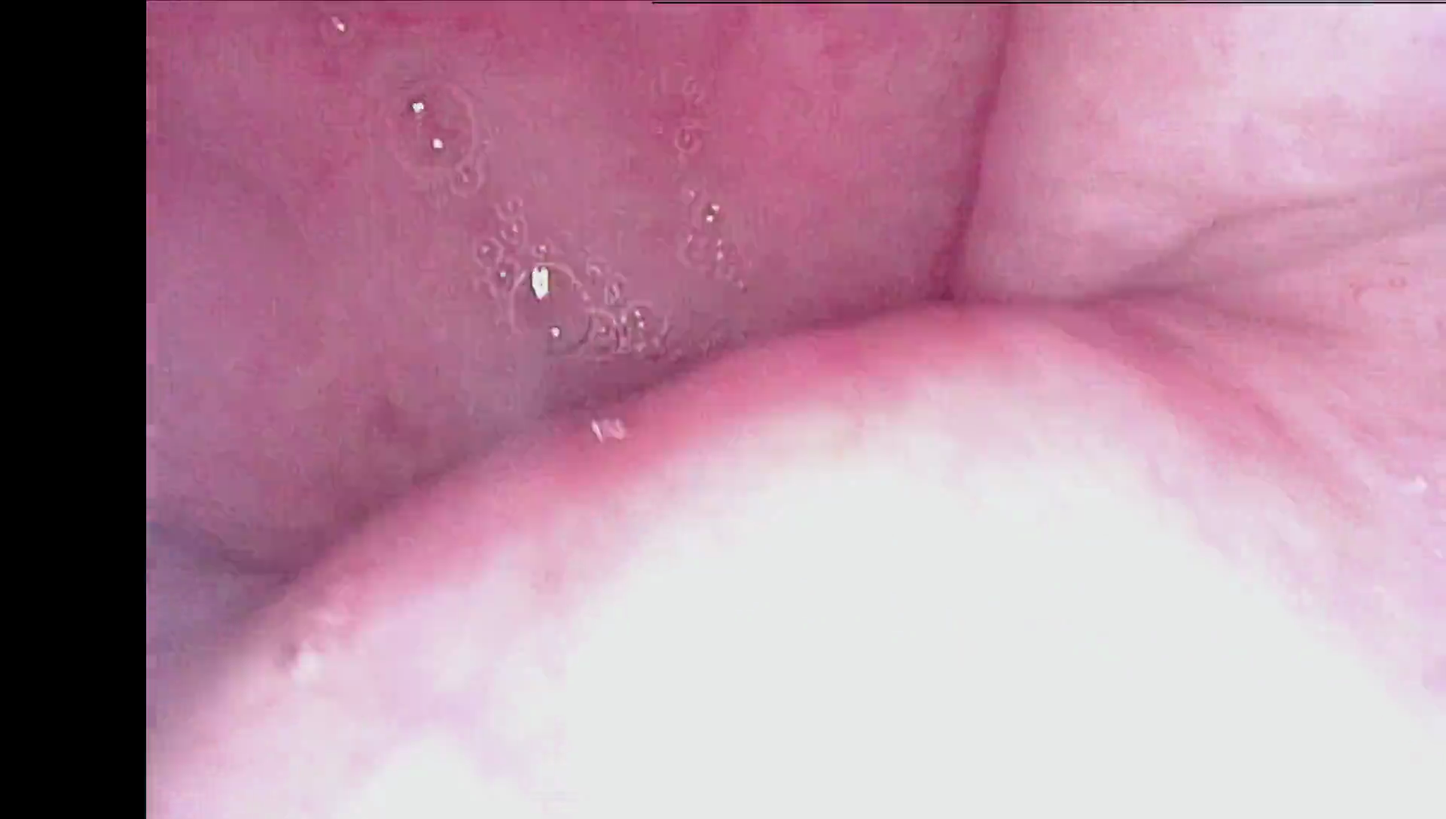close_wall: (174, 357, 1446, 819), (1037, 5, 1446, 819)
